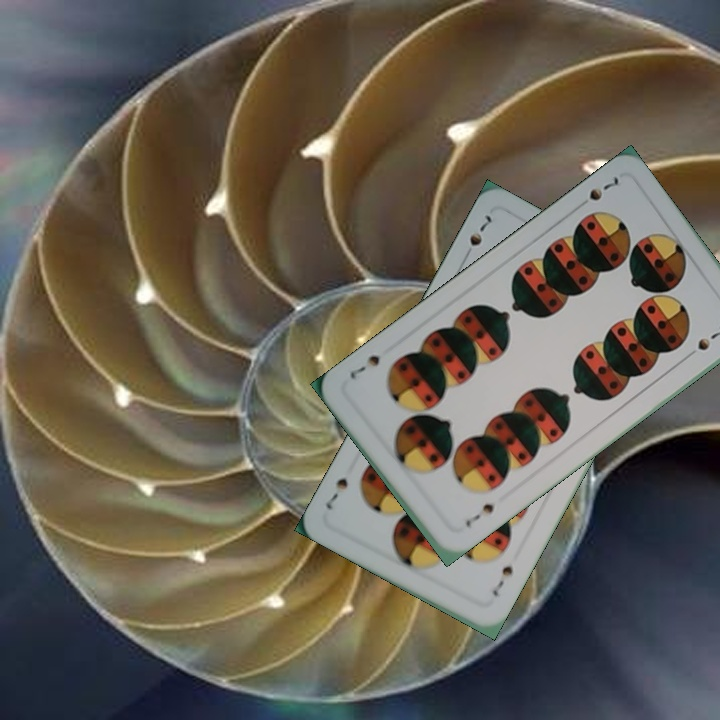S7: (459, 210, 494, 263), (584, 172, 622, 204), (461, 499, 497, 530), (488, 561, 516, 600)
